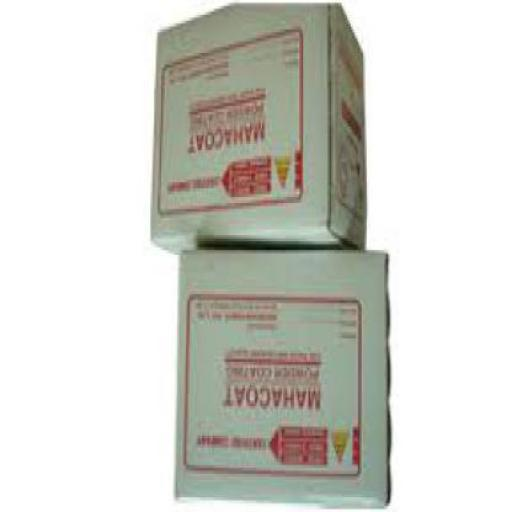cardboard: (177, 250, 394, 511), (155, 3, 366, 262)
